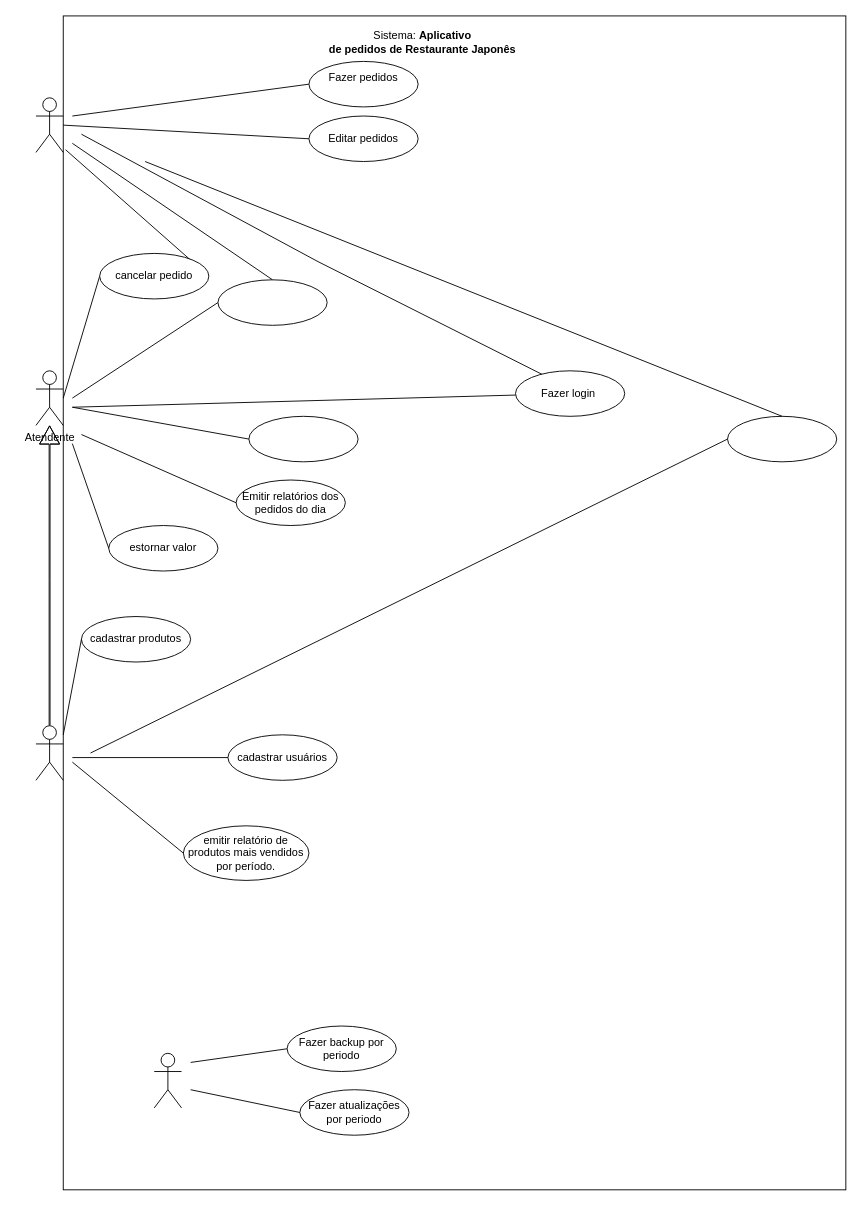
This 862x1206 diagram has some shape labels left out. The centre of each missing label's shape, as x and y in pixels:
"Acompanhar pedidos" goes at (272,302).
"Administrador" goes at (49,752).
"Cadastrar dados da entrega" goes at (303,438).
"Cliente" goes at (49,124).
"consultar pedido" goes at (782,438).
"Sistema" goes at (167,1080).
